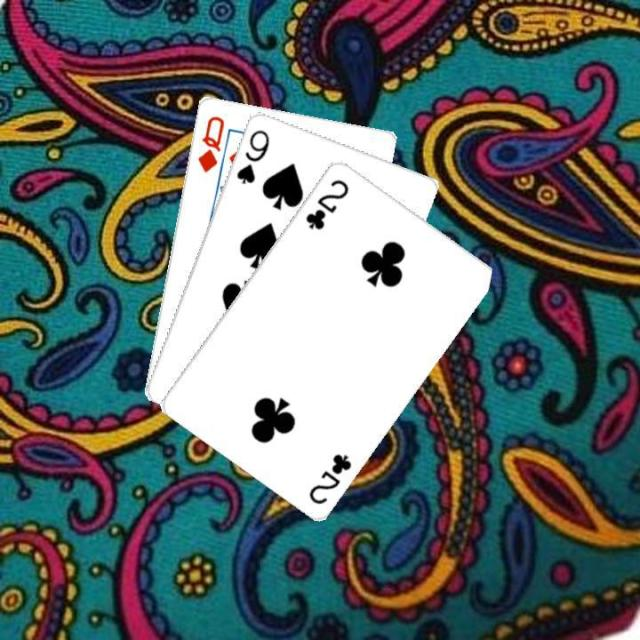2C: (301, 174, 351, 231), (304, 449, 354, 506)
9S: (232, 125, 271, 186)
QD: (193, 111, 226, 174)
